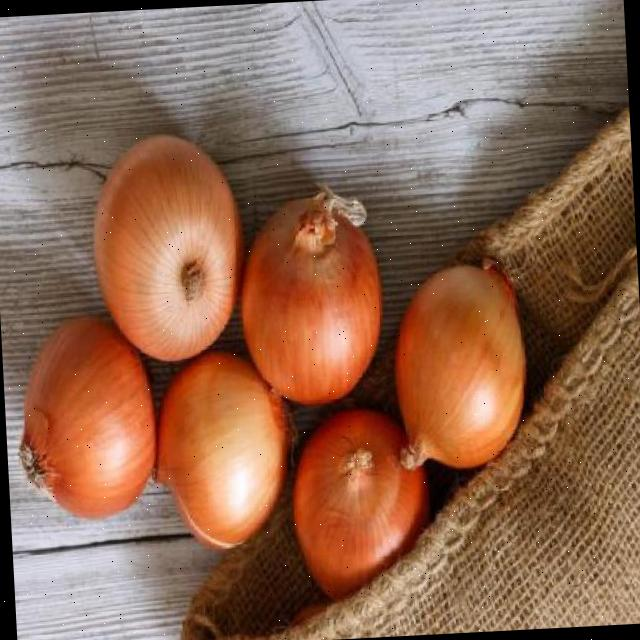Onion: (92, 134, 239, 359), (240, 186, 379, 404), (17, 317, 154, 519), (394, 264, 525, 467), (154, 351, 287, 548), (292, 409, 428, 599)
